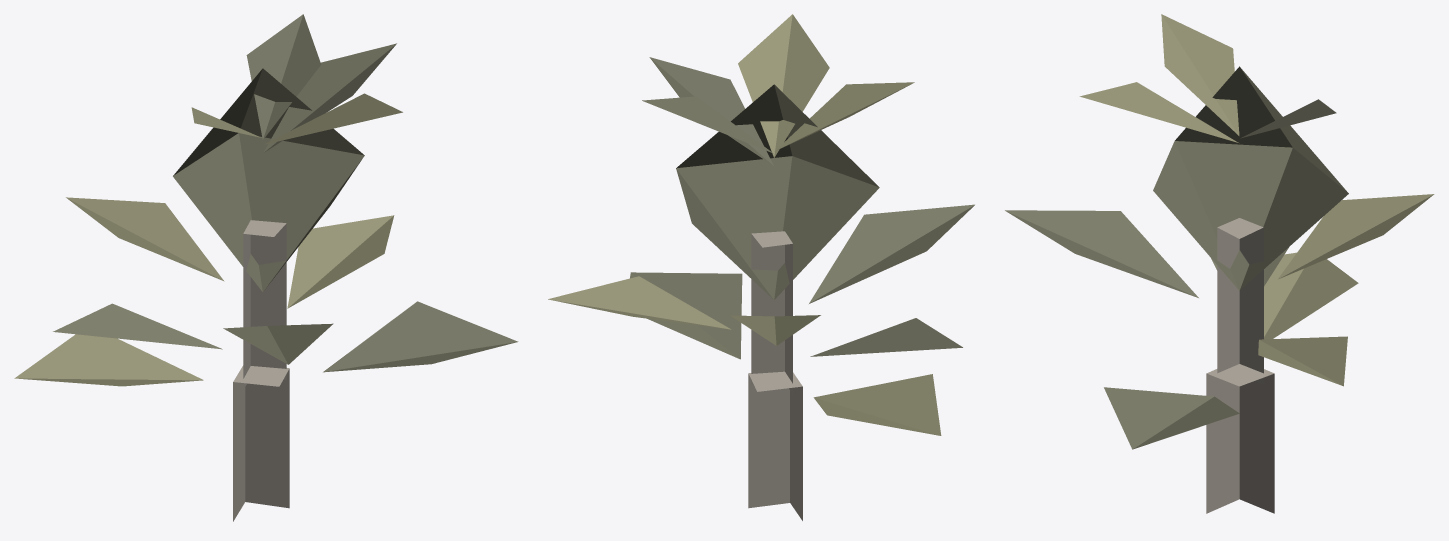
The model's file is shu.chuizhi@seedling__winter.glb.
3 views of the same model, side by side, from view 1: azimuth 30°, elevation 25°; view 2: azimuth 150°, elevation 25°; view 3: azimuth 270°, elevation 25° (orthographic). The views are drawn at different scales.
Parts seen in each view (by area): view 1: shu.chuizhi@seedling__winter; view 2: shu.chuizhi@seedling__winter; view 3: shu.chuizhi@seedling__winter.
Part boxes in pixels (x1,y1,x2,y2): shu.chuizhi@seedling__winter: (14,14,518,521); shu.chuizhi@seedling__winter: (548,14,974,520); shu.chuizhi@seedling__winter: (1005,14,1434,513).
Size of the model in its own units: 0.9164 by 1.04 by 0.8249.
